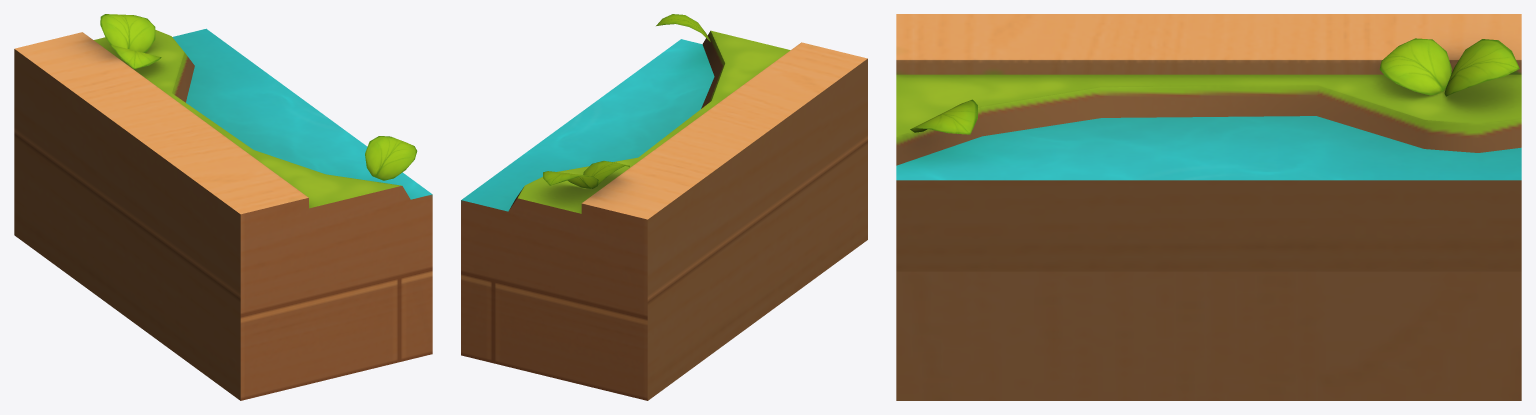
File: shuichi01.FBX
The picture shows the model from 3 angles, left to right: view 1: azimuth 30°, elevation 25°; view 2: azimuth 150°, elevation 25°; view 3: azimuth 270°, elevation 25°; orthographic projection. The views are drawn at different scales.
Parts seen in each view (by area): view 1: objjiansulumian_02_01; view 2: objjiansulumian_02_01; view 3: objjiansulumian_02_01.
Boxes of the visible parts, x1,y1,x2,y2 form: objjiansulumian_02_01: (14, 14, 432, 400); objjiansulumian_02_01: (461, 14, 867, 400); objjiansulumian_02_01: (896, 14, 1521, 400).
Size of the model in its own units: 3.44 by 3.51 by 7.
